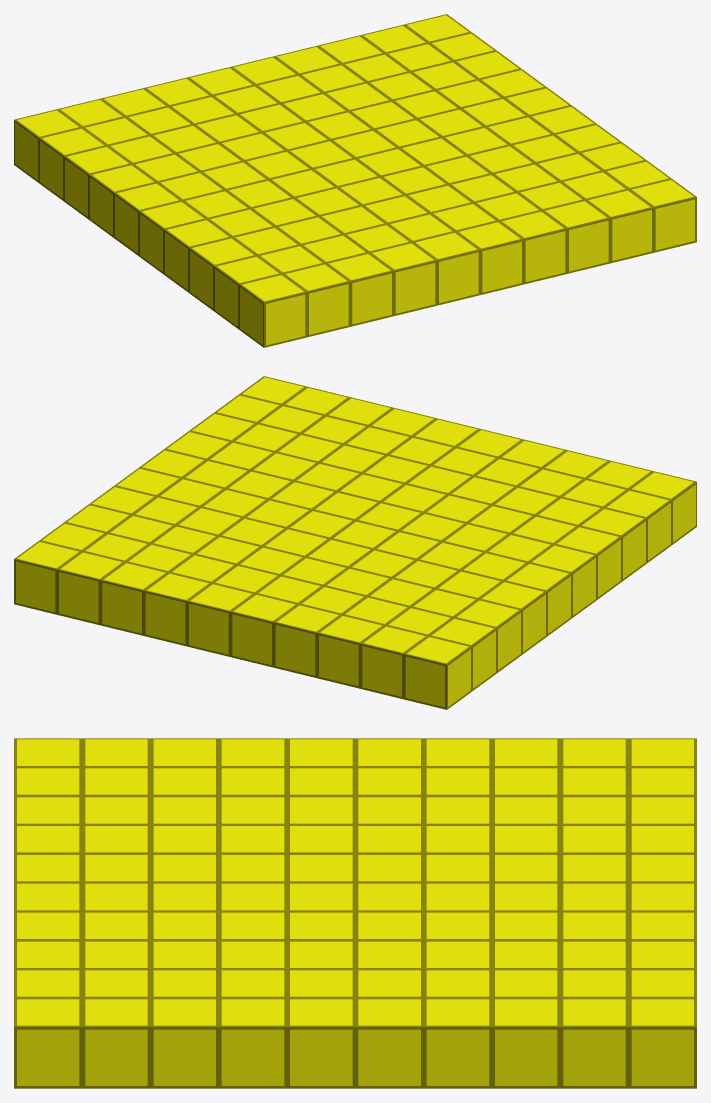
File: centena.fbx
3 views of the same model, one above another, from view 1: azimuth 30°, elevation 25°; view 2: azimuth 150°, elevation 25°; view 3: azimuth 270°, elevation 25° (orthographic). The views are drawn at different scales.
Parts seen in each view (by area): view 1: Cube.006; view 2: Cube.006; view 3: Cube.006.
Boxes of the visible parts, x1=… form: Cube.006: x1=14, y1=14, x2=696, y2=347; Cube.006: x1=14, y1=376, x2=696, y2=709; Cube.006: x1=14, y1=738, x2=696, y2=1088.
Bounding box in the file's own units: 200 × 2000 × 2000.
